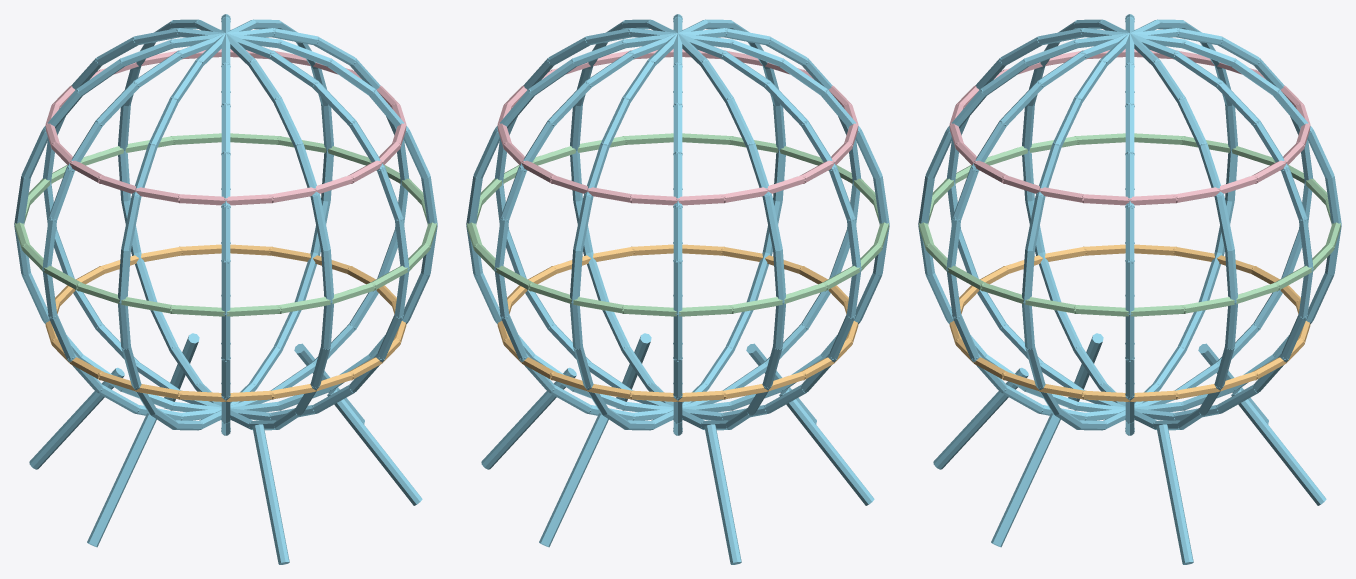
File: climbing_globe.glb
3 renders of one model, left to right at view 1: azimuth 30°, elevation 25°; view 2: azimuth 150°, elevation 25°; view 3: azimuth 270°, elevation 25°, orthographic.
Visible parts, largest first — view 1: ClimbingGlobe; view 2: ClimbingGlobe; view 3: ClimbingGlobe.
Part boxes in pixels (x1=…): ClimbingGlobe: x1=14, y1=14, x2=437, y2=564; ClimbingGlobe: x1=466, y1=14, x2=889, y2=564; ClimbingGlobe: x1=918, y1=14, x2=1341, y2=564.
Size of the model in its own units: 2.15 by 2.54 by 2.15.
